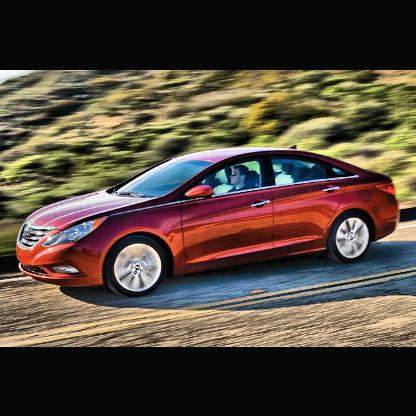Hyundai Sonata Sedan 2012: (16, 148, 402, 300)
